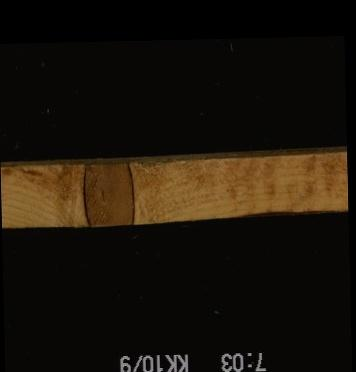edge_knot: (80, 158, 136, 228)
